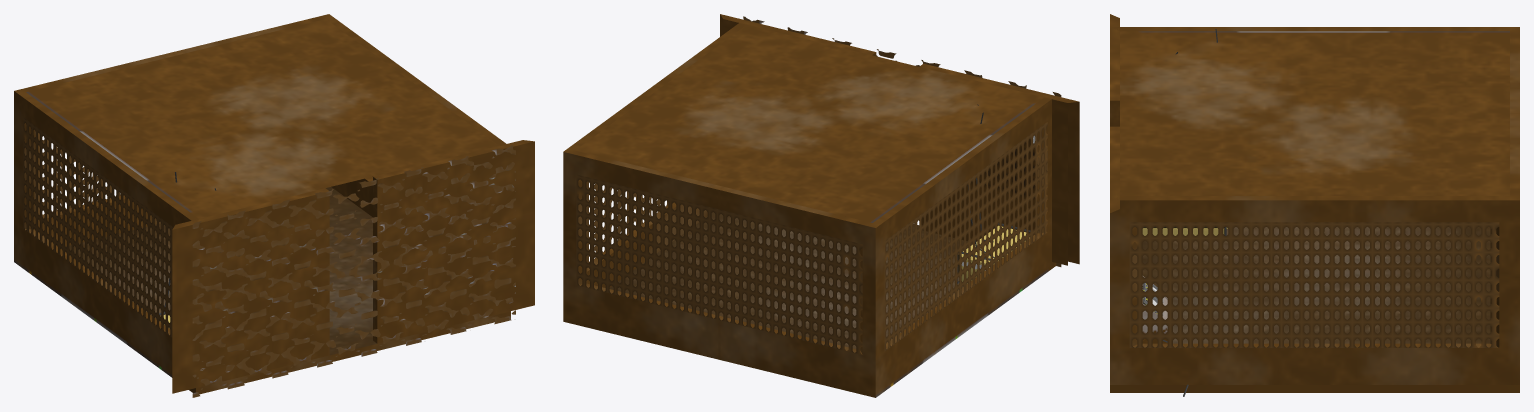
The model's file is Elevator.fbx.
3 views of the same model, side by side, from view 1: azimuth 30°, elevation 25°; view 2: azimuth 150°, elevation 25°; view 3: azimuth 270°, elevation 25° (orthographic). The views are drawn at different scales.
Parts seen in each view (by area): view 1: Elevator, Grates; view 2: Elevator, Grates, Generator; view 3: Elevator, Grates, Control Panel, Generator.
Part boxes in pixels (<box>): Elevator: <box>14,14,534,394</box>; Grates: <box>23,117,515,397</box>; Elevator: <box>563,14,1079,397</box>; Grates: <box>576,16,1061,351</box>; Generator: <box>958,225,1029,283</box>; Elevator: <box>1110,14,1519,392</box>; Grates: <box>1129,222,1499,347</box>; Control Panel: <box>1142,276,1167,343</box>; Generator: <box>1142,227,1227,235</box>.
Bounding box in the file's own units: 548 × 265 × 479.
